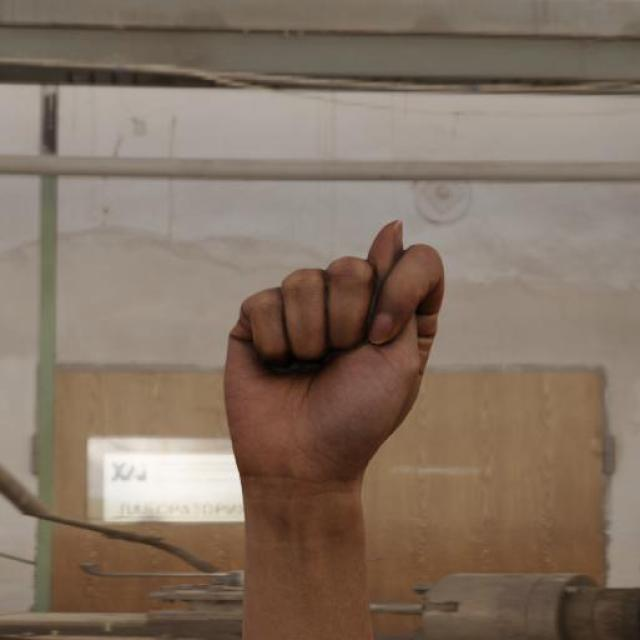T: (219, 217, 455, 509)
